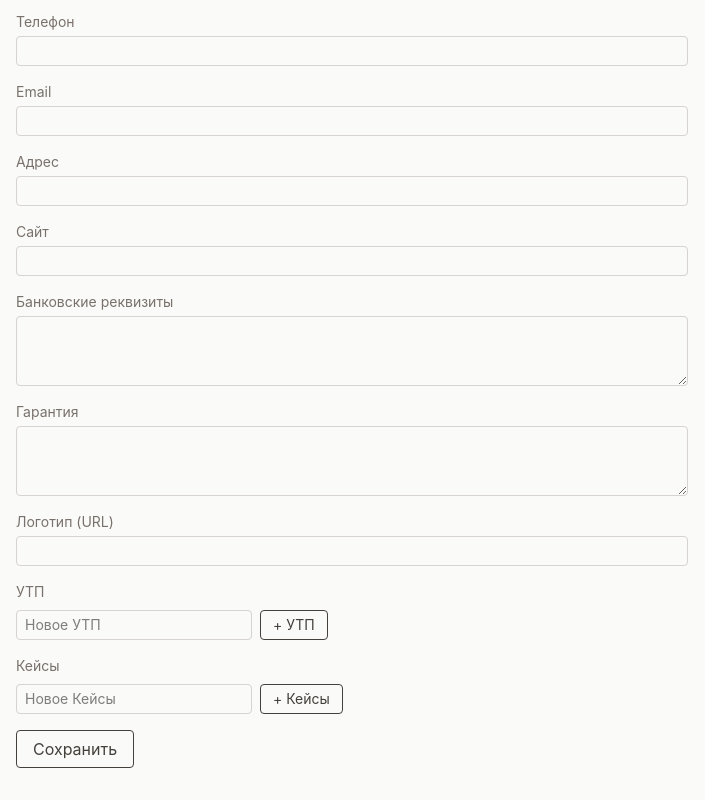
ProfilePage › adds and removes a УТП item
The image size is (705, 800).
(page scrolled)
Step 1. Type "Гарантия 5 лет" into the field with placeholder "Новое УТП" → (134, 625), box [16,610,252,640]
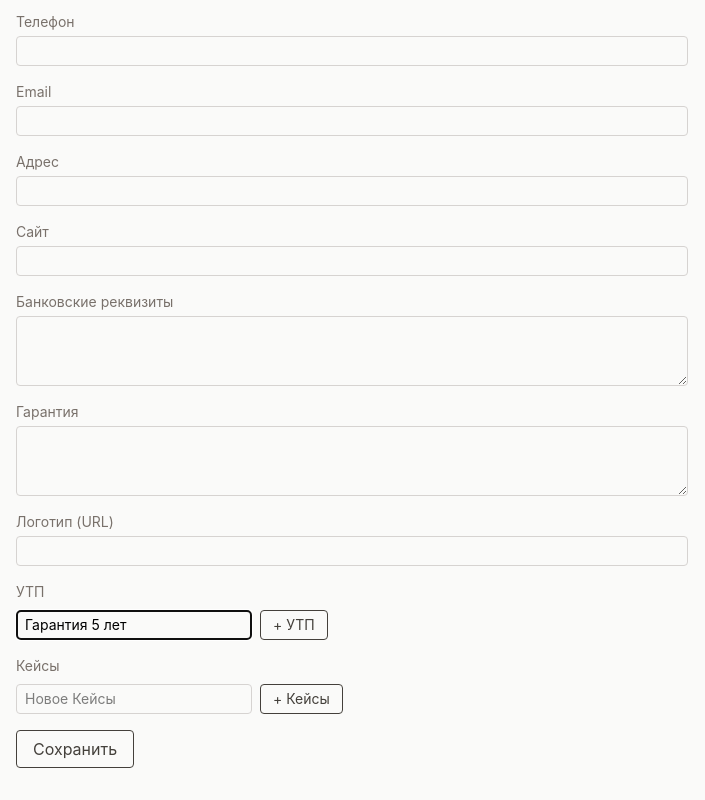
Step 2. Click the button "+ УТП" → (294, 625), box [260,610,328,640]
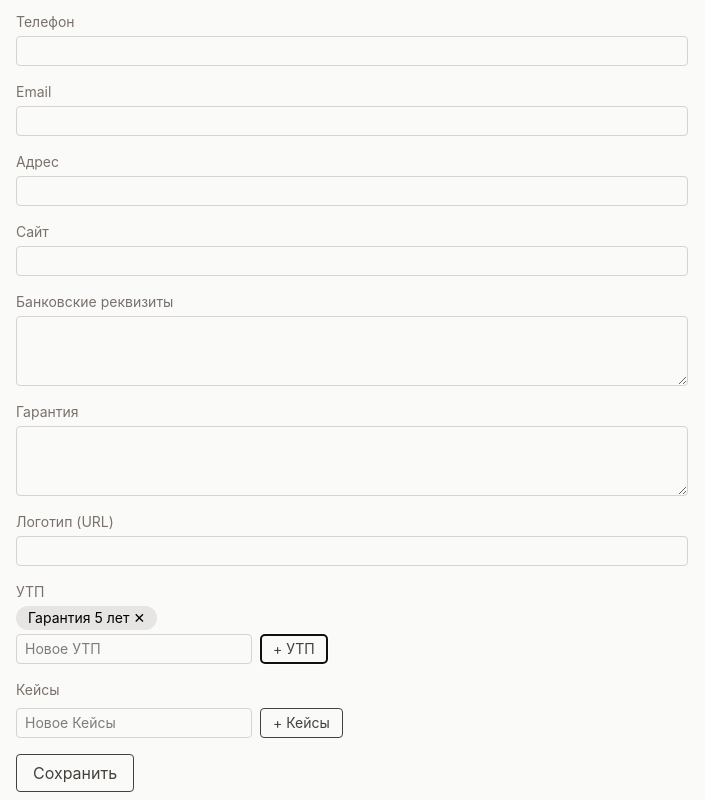
Now the text "Гарантия 5 лет" is shown, box [28,609,130,626]
Step 3. Click the button named "Удалить УТП Гарантия 5 лет" → (139, 618), box [134,608,145,628]
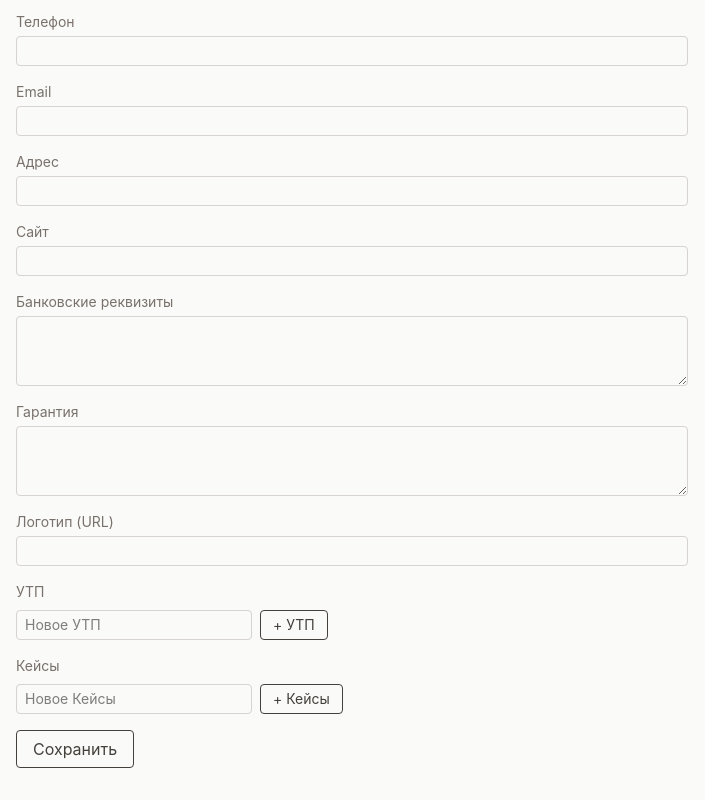
Now the text "Гарантия 5 лет" is gone
